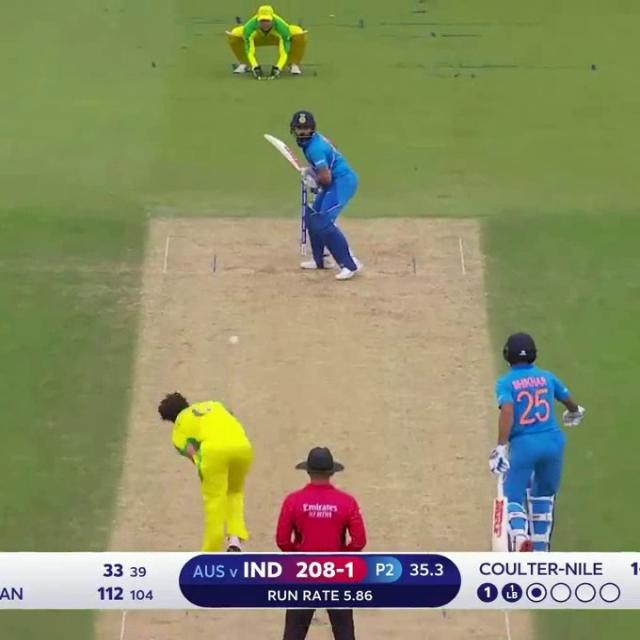bat: (259, 134, 304, 175), (490, 496, 510, 554)
